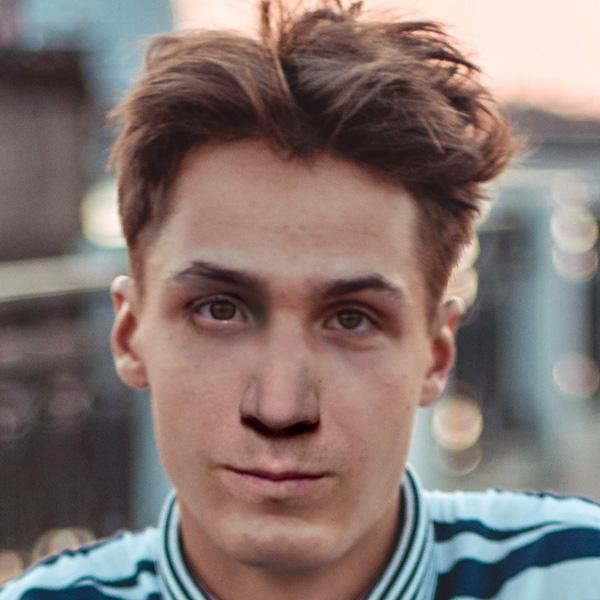Eyes: (177, 282, 260, 338), (312, 295, 395, 344)
